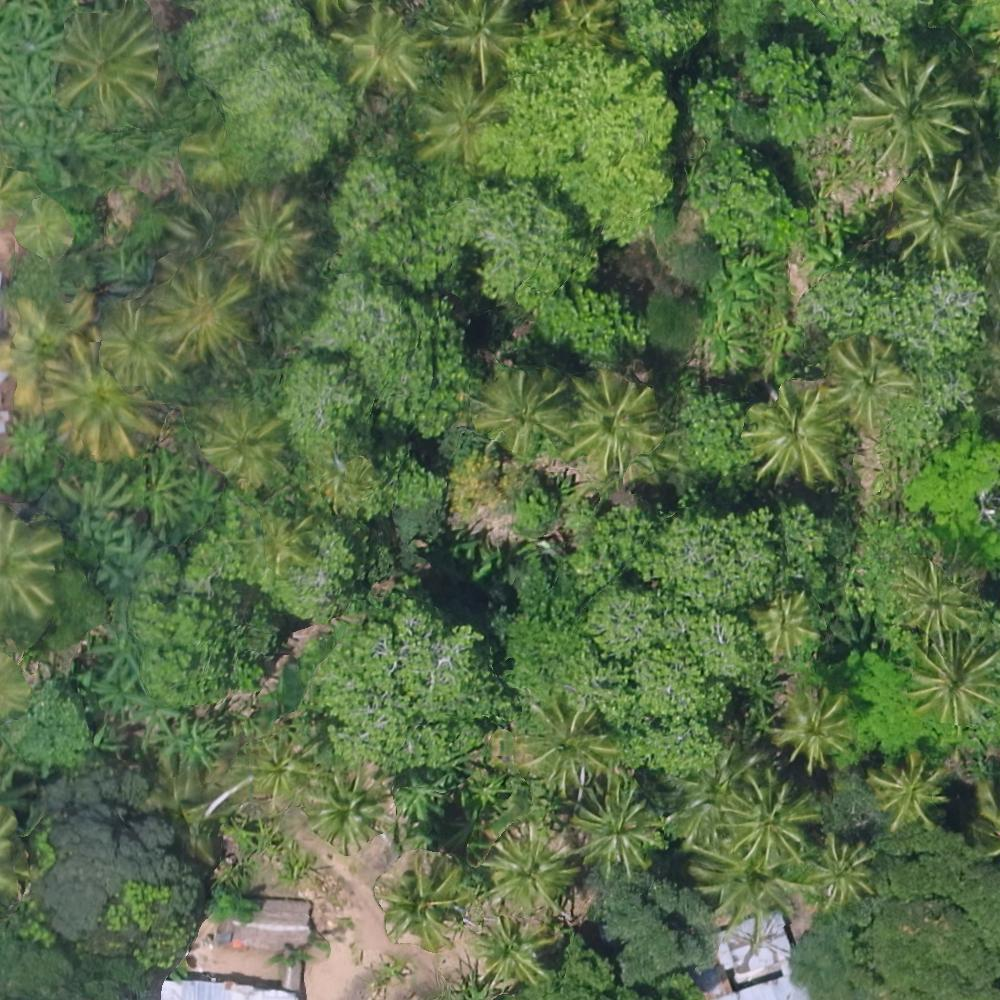Palm: (856, 60, 970, 169), (44, 347, 150, 458), (52, 16, 158, 113), (886, 167, 985, 266), (565, 374, 663, 468), (748, 386, 841, 479), (197, 395, 293, 484), (414, 71, 506, 163), (524, 699, 619, 788), (906, 638, 998, 729), (827, 332, 912, 429), (571, 782, 661, 868), (94, 297, 183, 383), (227, 192, 311, 282), (727, 773, 813, 860), (381, 857, 465, 946), (161, 265, 245, 351), (485, 829, 568, 913), (777, 686, 863, 767), (482, 372, 568, 451), (436, 2, 530, 74), (338, 7, 421, 88), (468, 911, 547, 988), (305, 772, 384, 848), (864, 756, 943, 827), (803, 833, 877, 905), (750, 593, 820, 663), (897, 560, 967, 628)
